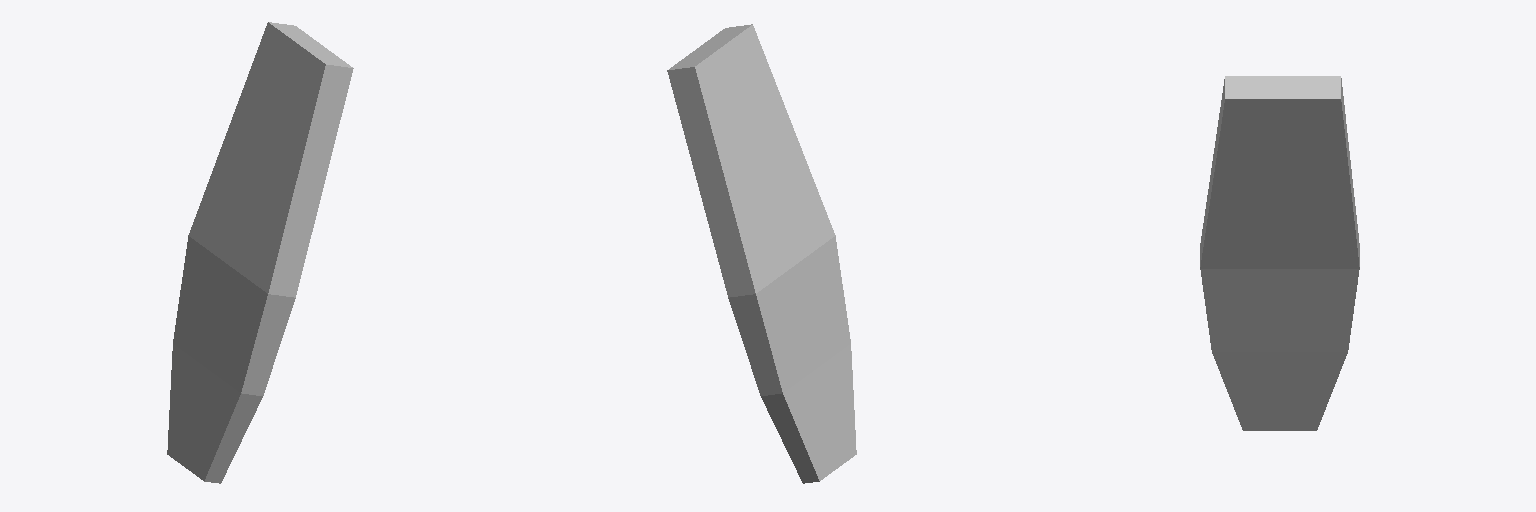
File: penguinRightWing.obj
The picture shows the model from 3 angles: view 1: azimuth 30°, elevation 25°; view 2: azimuth 150°, elevation 25°; view 3: azimuth 270°, elevation 25°; orthographic projection.
Parts seen in each view (by area): view 1: Left_Wing; view 2: Left_Wing; view 3: Left_Wing.
Part boxes in pixels (x1,y1,x2,y2): Left_Wing: (167,22,353,483); Left_Wing: (667,24,856,483); Left_Wing: (1200,76,1359,430).
Bounding box in the file's own units: 0.2346 × 0.6425 × 0.2307.